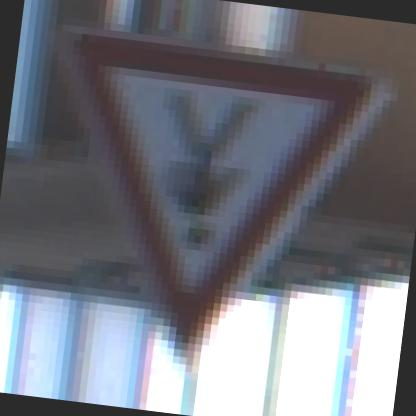crosswalk: (20, 11, 406, 385)
